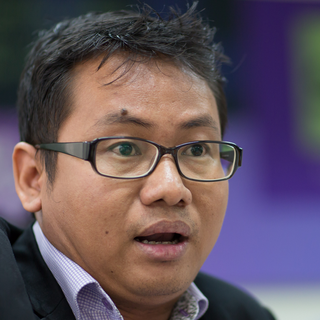eye: (175, 132, 222, 169), (102, 134, 147, 162)
